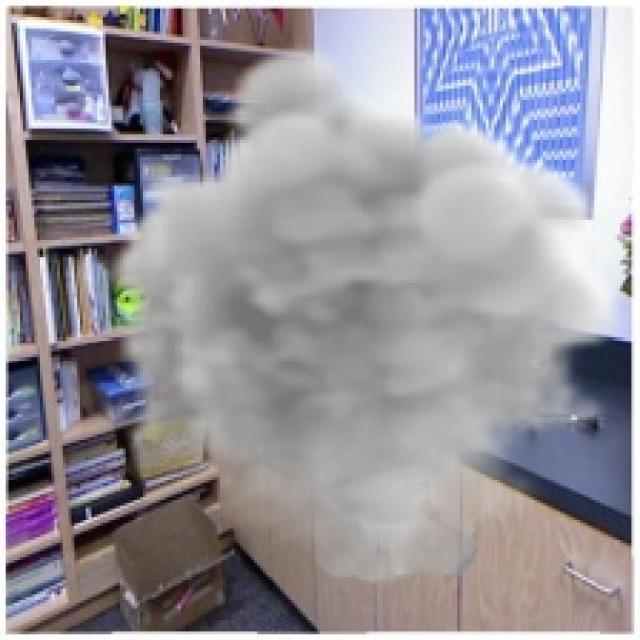Smoke: (105, 40, 626, 589)
